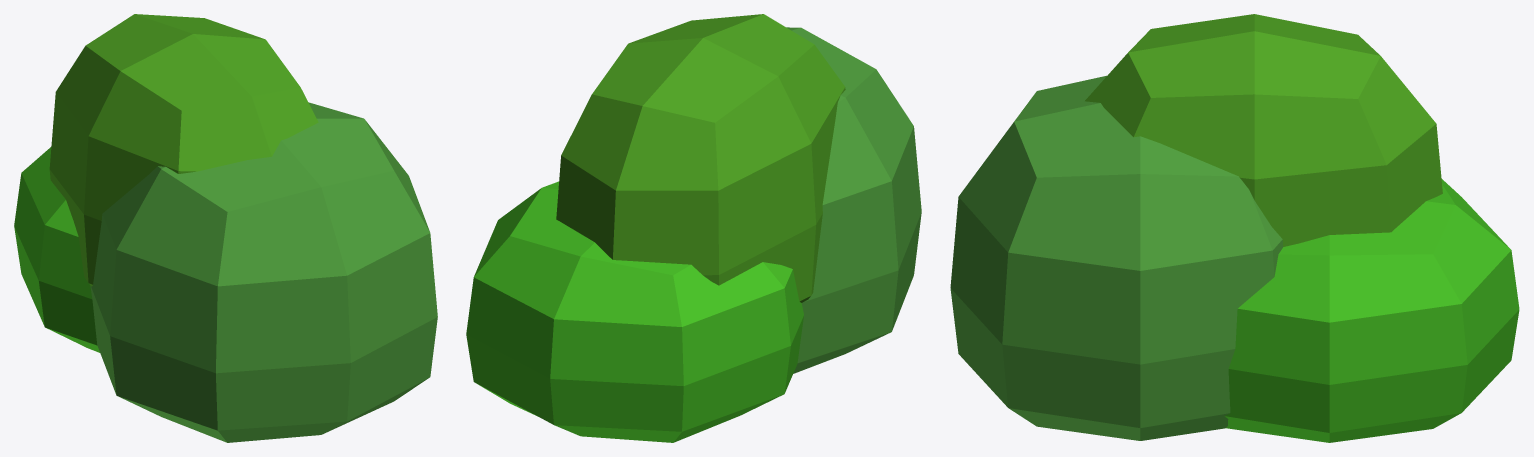
The model's file is bush.fbx.
3 renders of one model, left to right at view 1: azimuth 30°, elevation 25°; view 2: azimuth 150°, elevation 25°; view 3: azimuth 270°, elevation 25°, orthographic. The views are drawn at different scales.
Parts seen in each view (by area): view 1: Cube, Cube.002, Cube.001; view 2: Cube.002, Cube.001, Cube; view 3: Cube, Cube.001, Cube.002.
Part boxes in pixels (box(x1,y1,x2,y2)): Cube: box(90, 102, 437, 442); Cube.002: box(49, 14, 318, 286); Cube.001: box(14, 147, 99, 352); Cube.002: box(556, 14, 845, 302); Cube.001: box(466, 181, 803, 442); Cube: box(786, 27, 921, 373); Cube: box(950, 75, 1283, 440); Cube.001: box(1225, 179, 1519, 442); Cube.002: box(1085, 14, 1442, 246).
Size of the model in its own units: 184 by 191 by 275.
